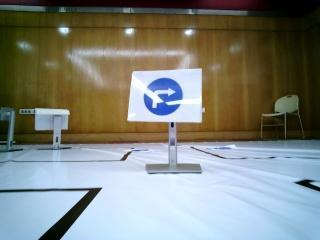right: (130, 73, 200, 118)
